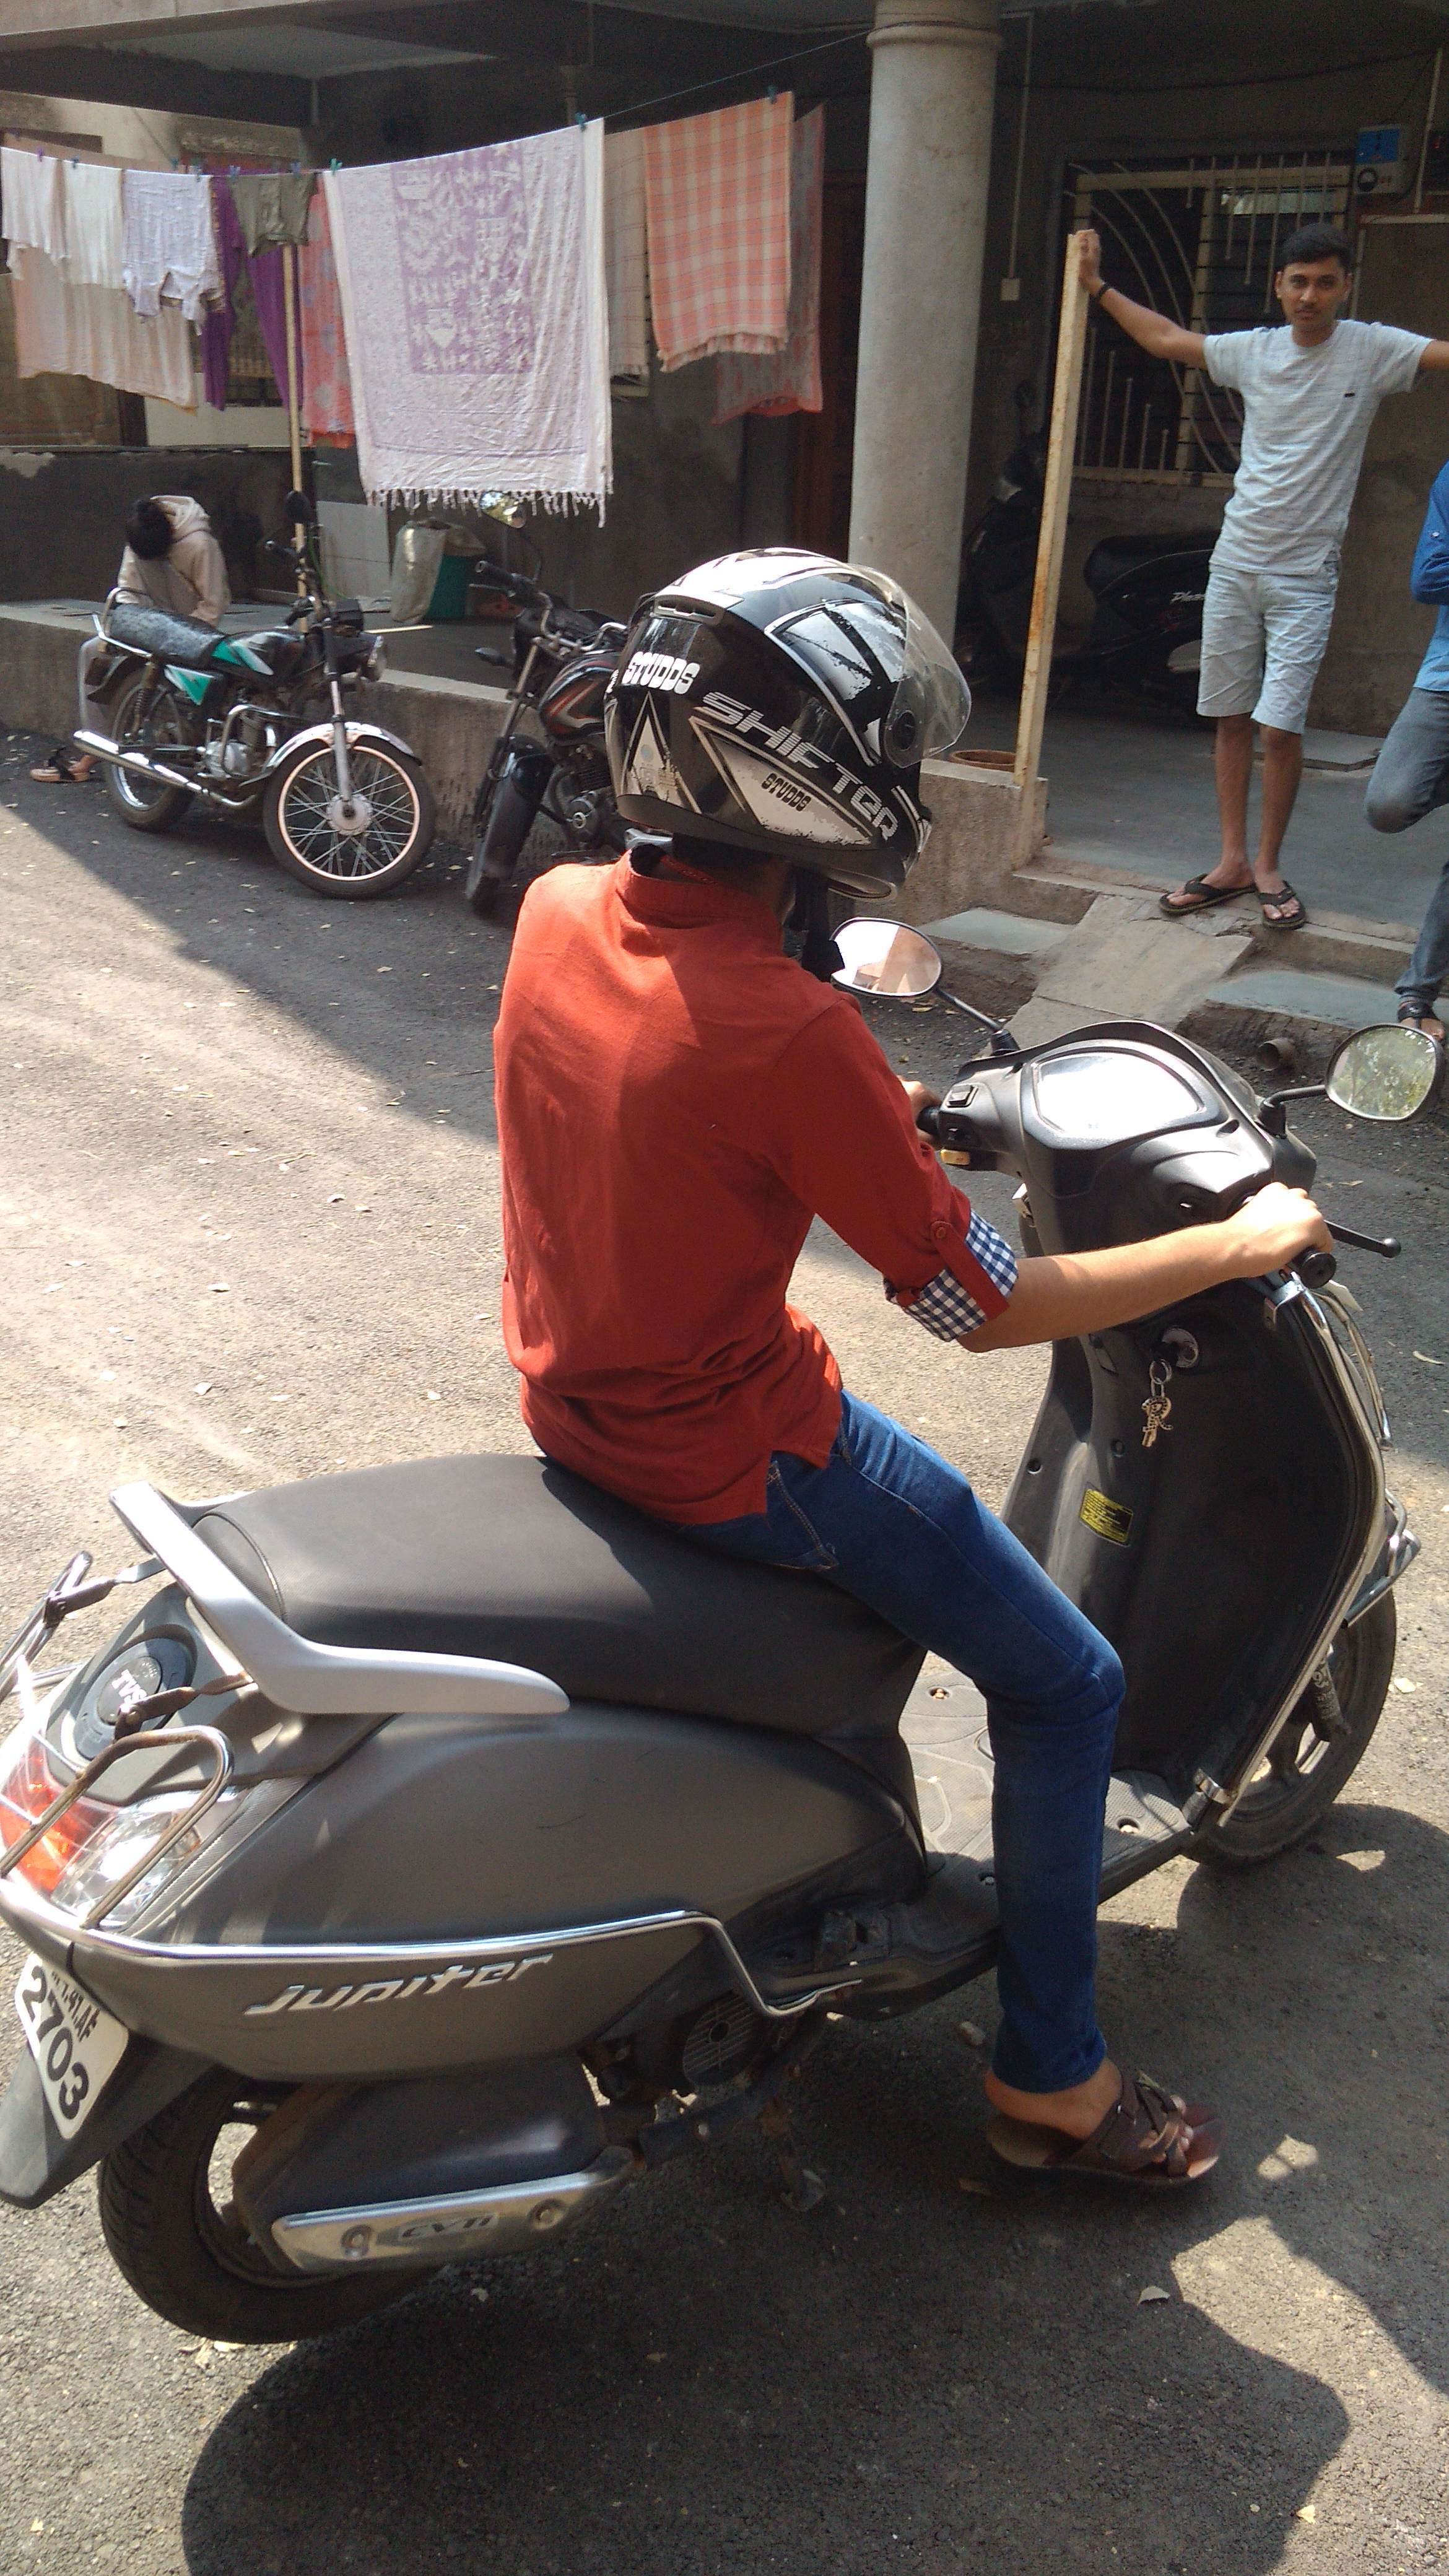helmet: (547, 545, 1253, 2282)
